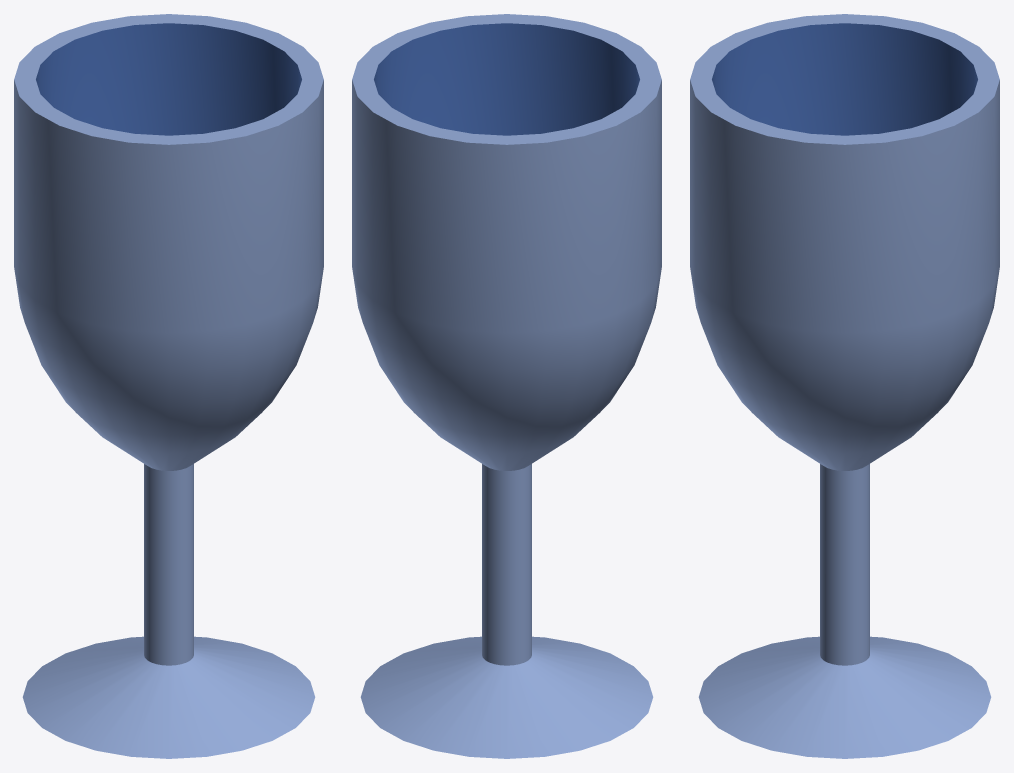
File: Wineglass A.fbx
3 views of the same model, side by side, from view 1: azimuth 30°, elevation 25°; view 2: azimuth 150°, elevation 25°; view 3: azimuth 270°, elevation 25° (orthographic).
Parts seen in each view (by area): view 1: Wineglass; view 2: Wineglass; view 3: Wineglass.
Boxes of the visible parts, x1=… form: Wineglass: x1=14, y1=14, x2=323, y2=758; Wineglass: x1=352, y1=14, x2=661, y2=758; Wineglass: x1=690, y1=14, x2=999, y2=758.
Bounding box in the file's own units: 0.2081 × 0.4579 × 0.2081.
